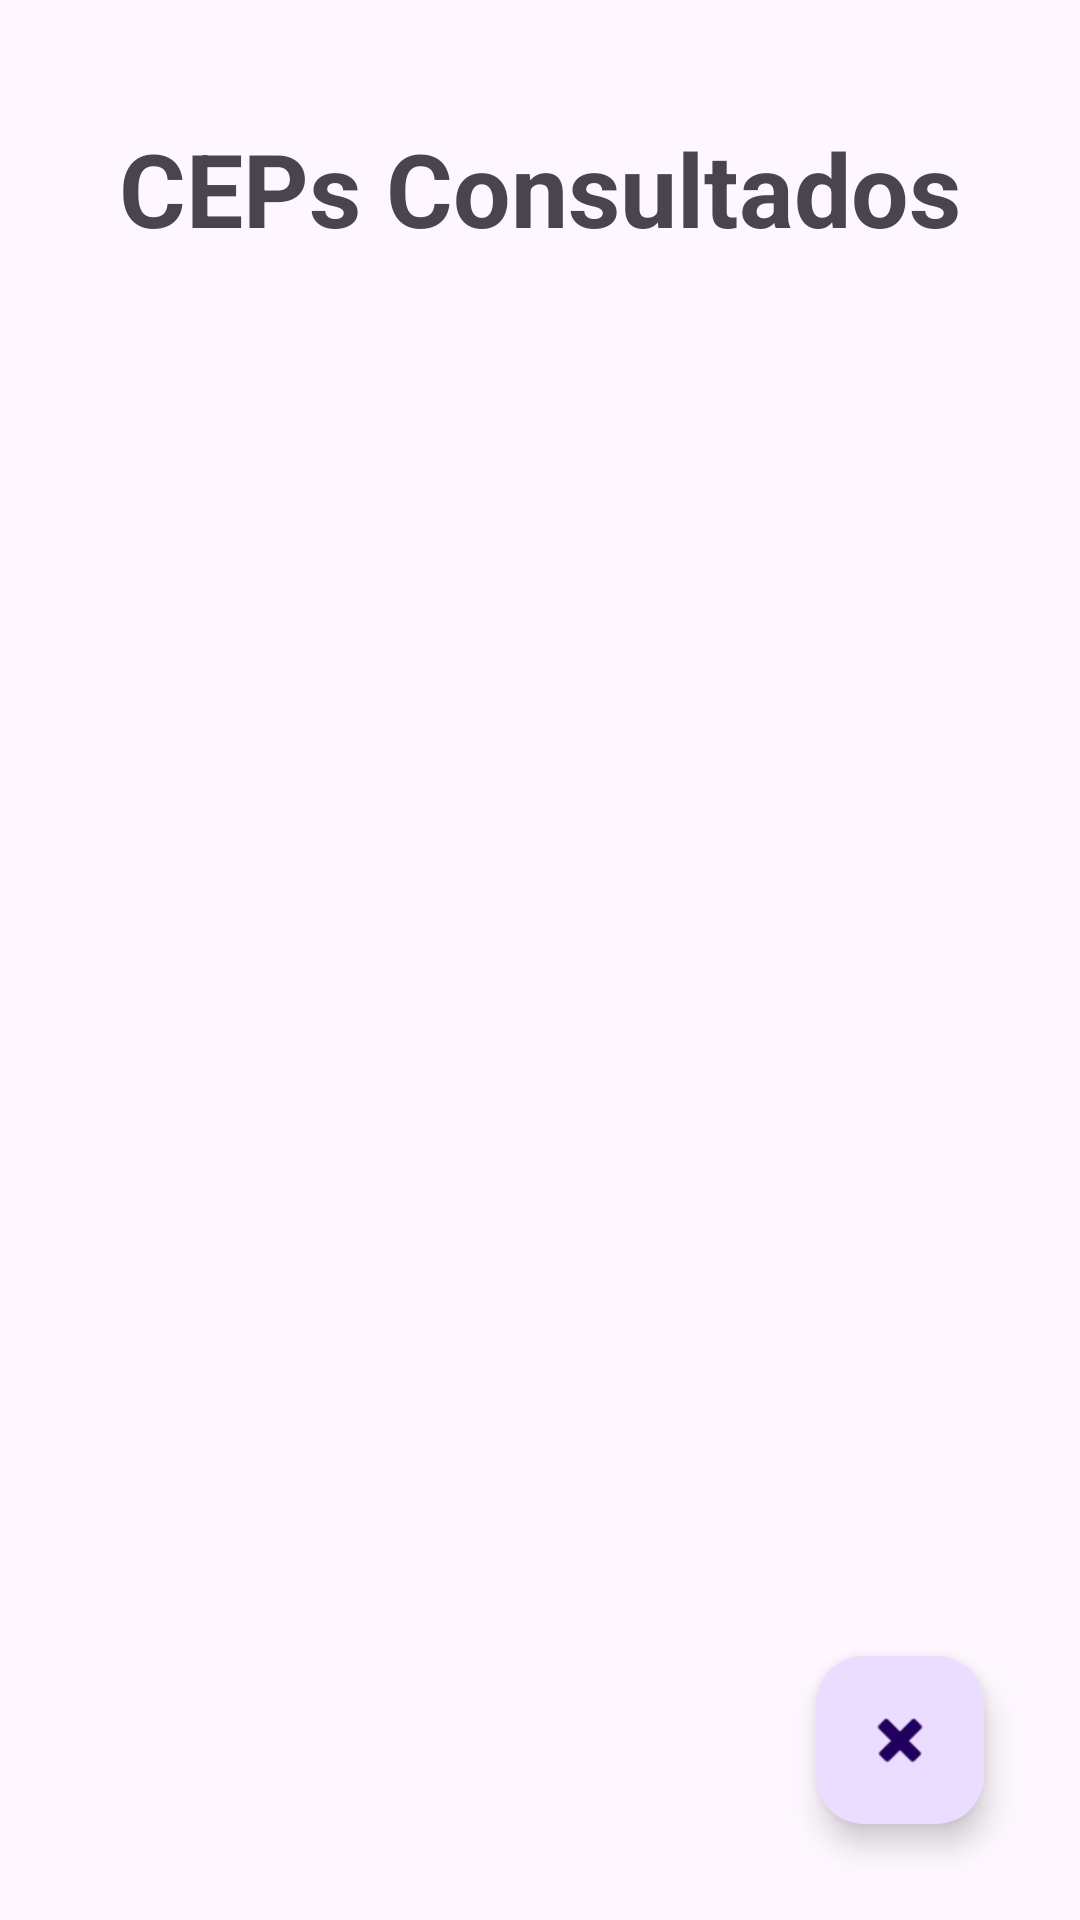

Screen size 1080 x 1920. Icon name, then its box in pixels as box(x1, y1, x2, y2):
Voltar: box(816, 1656, 984, 1824)
